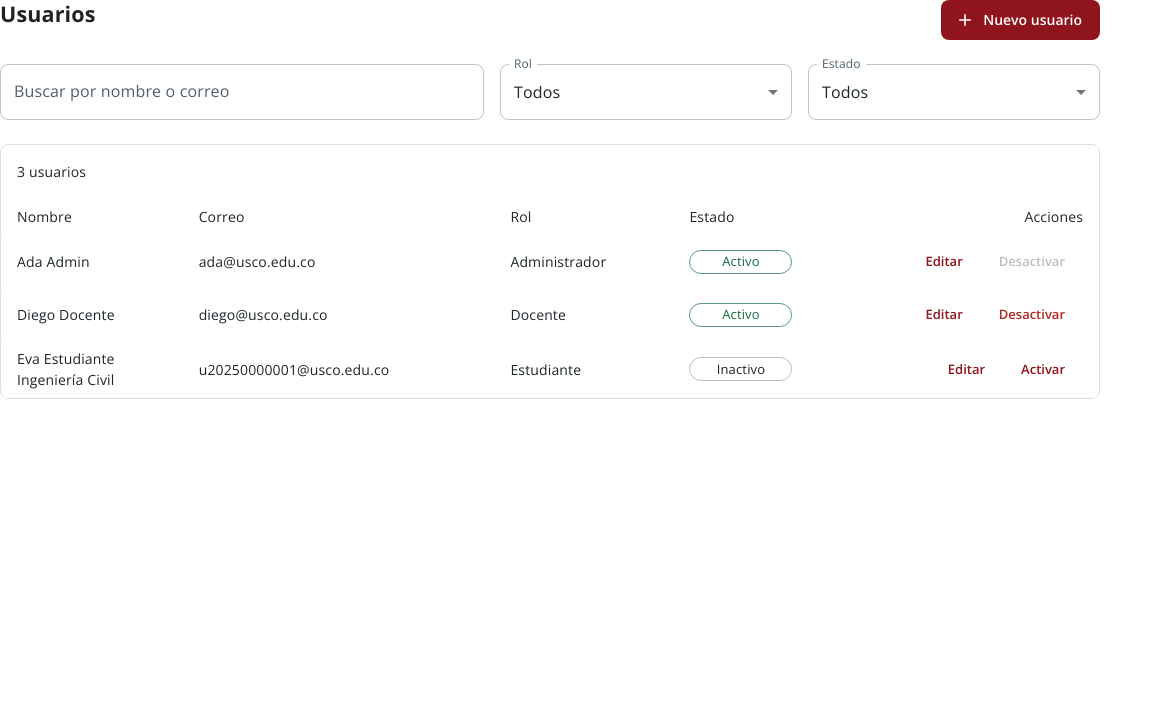
Test: UsuariosPage › exige correo de estudiante y programa cuando el rol es Estudiante
Expected: the text "3 usuarios" is shown, [17, 162, 86, 181]
Click the button "Nuevo usuario". click: (1021, 20)
box: [941, 0, 1100, 40]
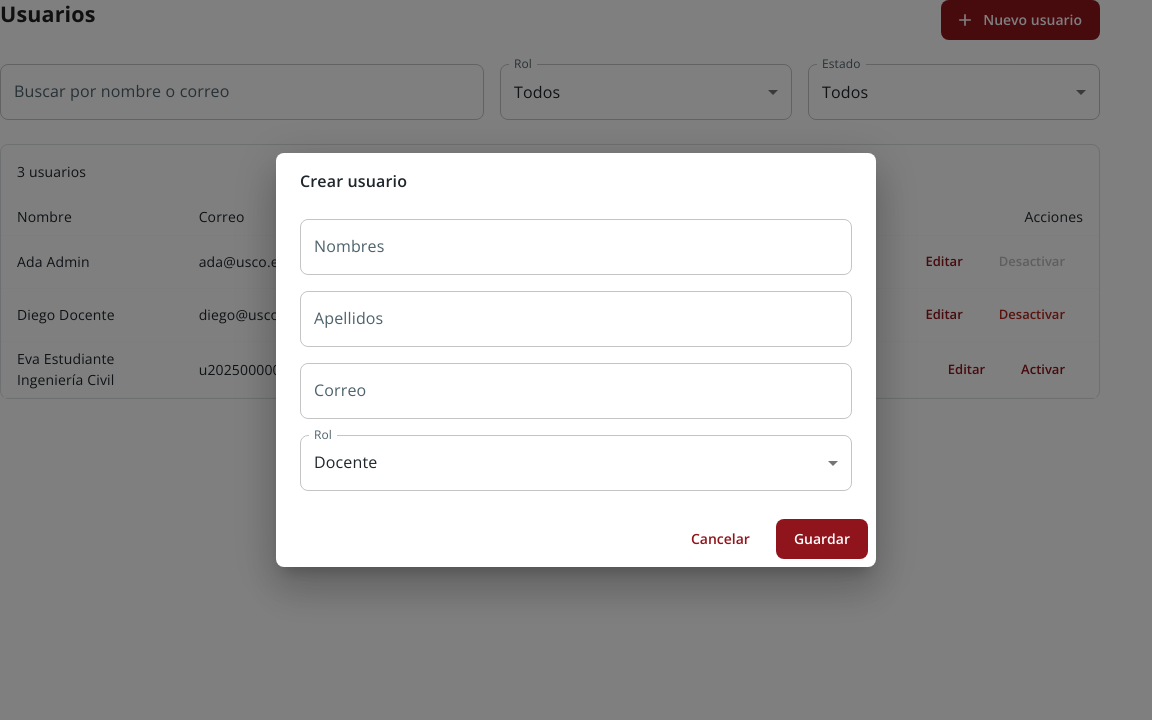
Type "Ana" into the field labelled "Nombres". click: (576, 247)
box: [300, 219, 852, 275]
Type "Ruiz" into the field labelled "Apellidos". click: (576, 319)
box: [300, 291, 852, 347]
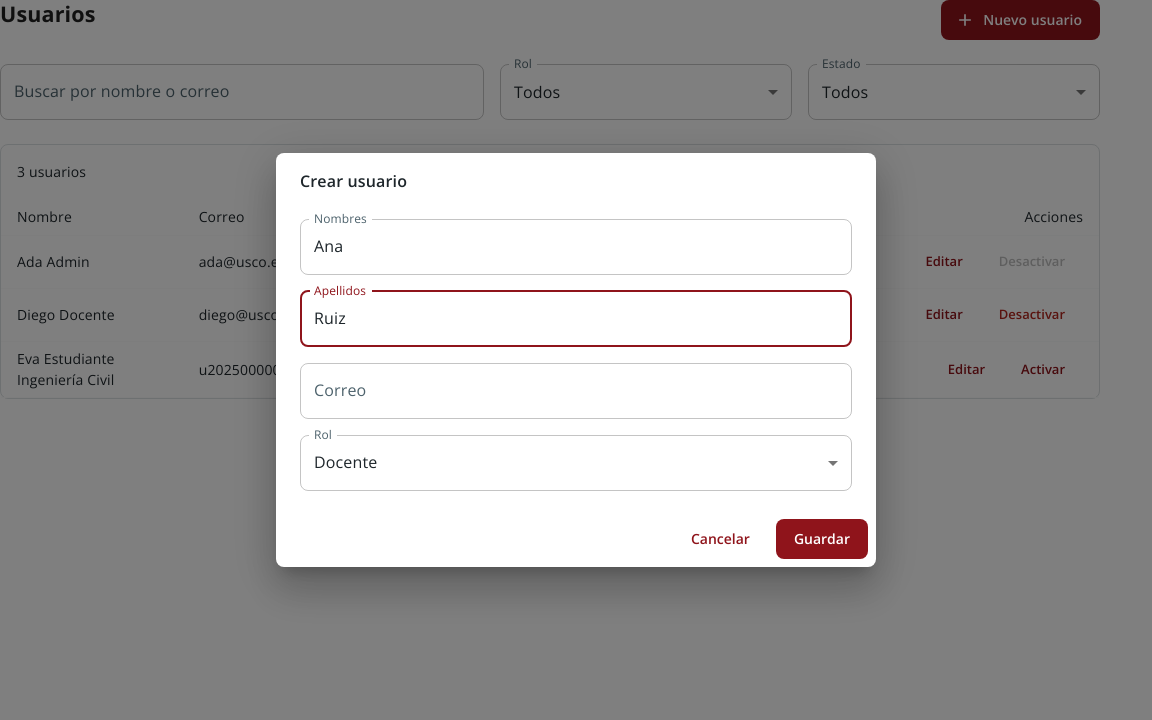
Type "ana@usco.edu.co" into the field labelled "Correo". click: (576, 391)
box: [300, 363, 852, 419]
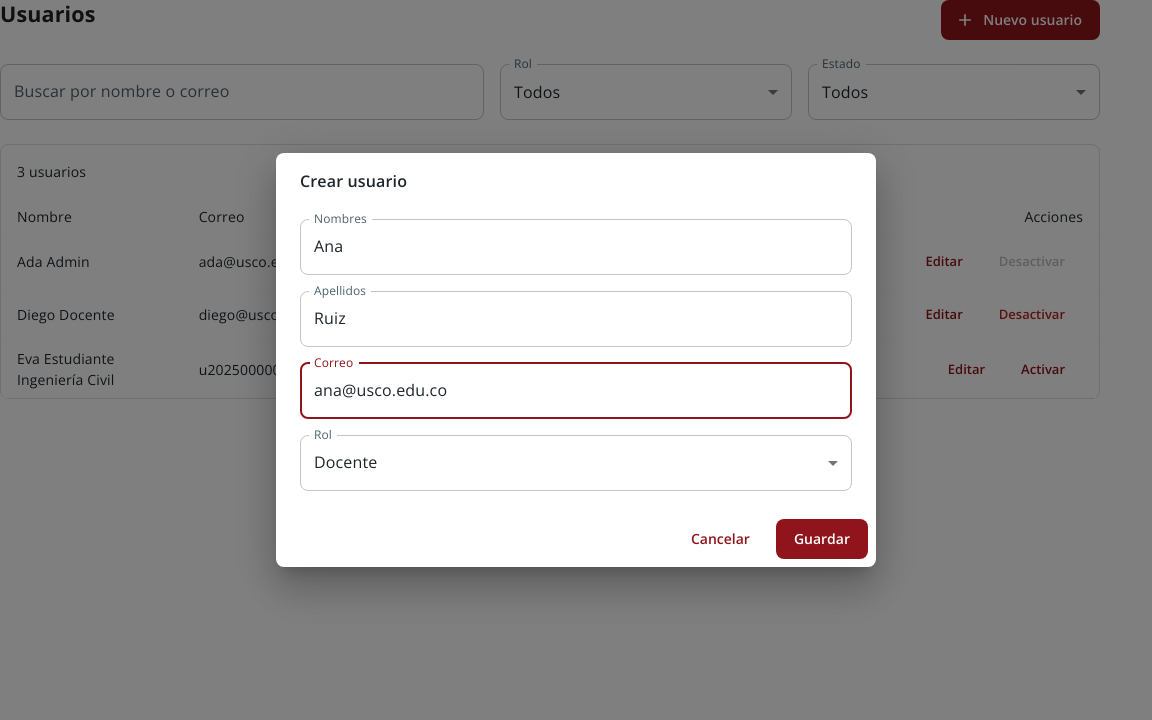
Click the dropdown named "Rol". click: (346, 462)
box: [314, 451, 377, 473]
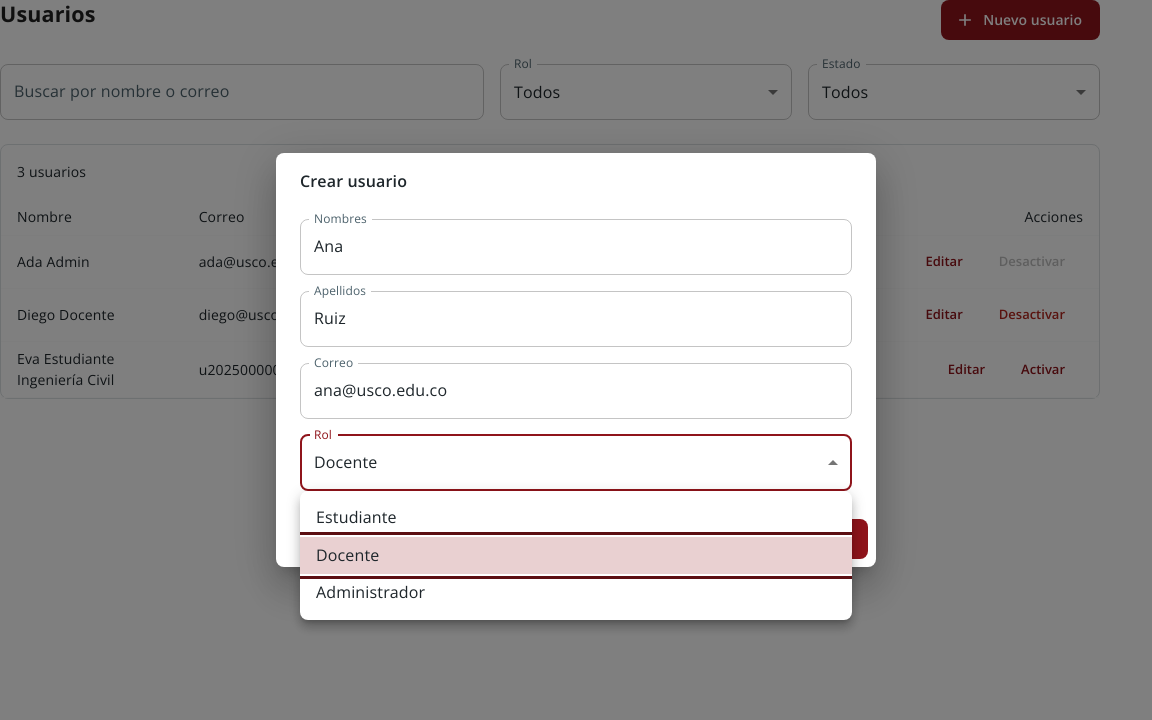
Click the option "Estudiante". click: (356, 517)
box: [316, 506, 397, 528]
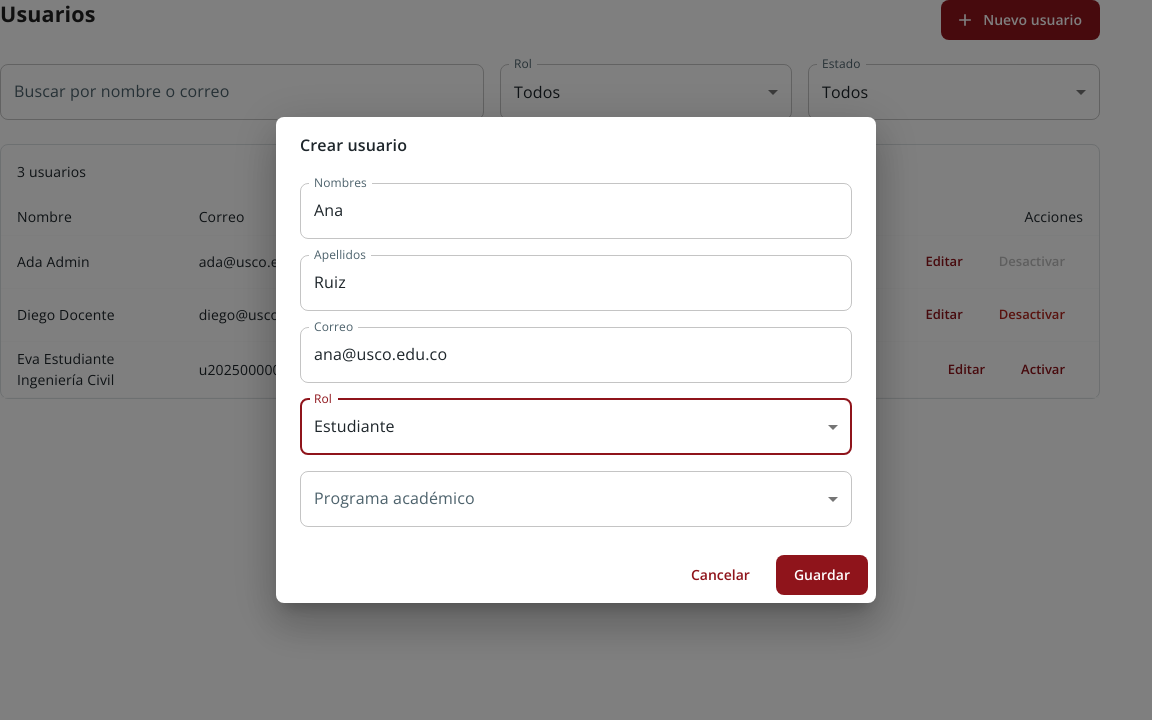
Click the button "Guardar". click: (822, 575)
box: [776, 555, 868, 595]
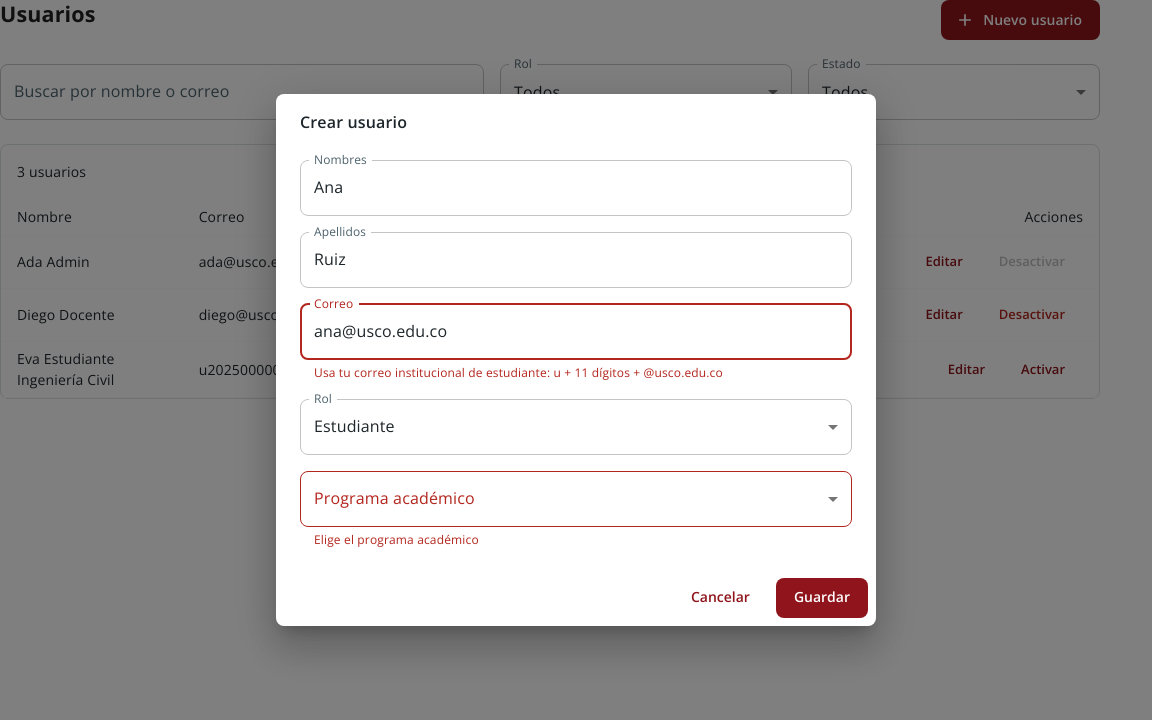
Expected: the text "u + 11 dígitos" is shown, [314, 364, 723, 381]
Expected: the text "Elige el programa académico" is shown, [314, 531, 479, 548]
